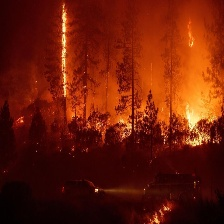fire: (178, 100, 210, 147), (59, 5, 72, 100), (149, 200, 172, 222), (185, 18, 199, 49)
smoke: (113, 14, 213, 93)
